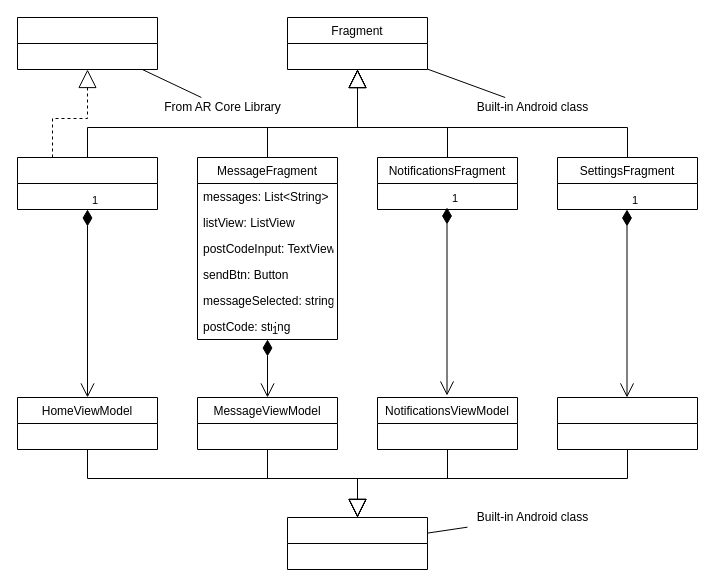
The diagram is 715 pixels wide and 587 high, and some of its shapes have lost their labels. The centre of each missing label's shape, as x and y in pixels:
"HomeFragment" goes at pixel 87 183.
"SampleRender.Renderer" goes at pixel 87 43.
"SettingsViewModel" goes at pixel 627 423.
"ViewModel" goes at pixel 357 543.
